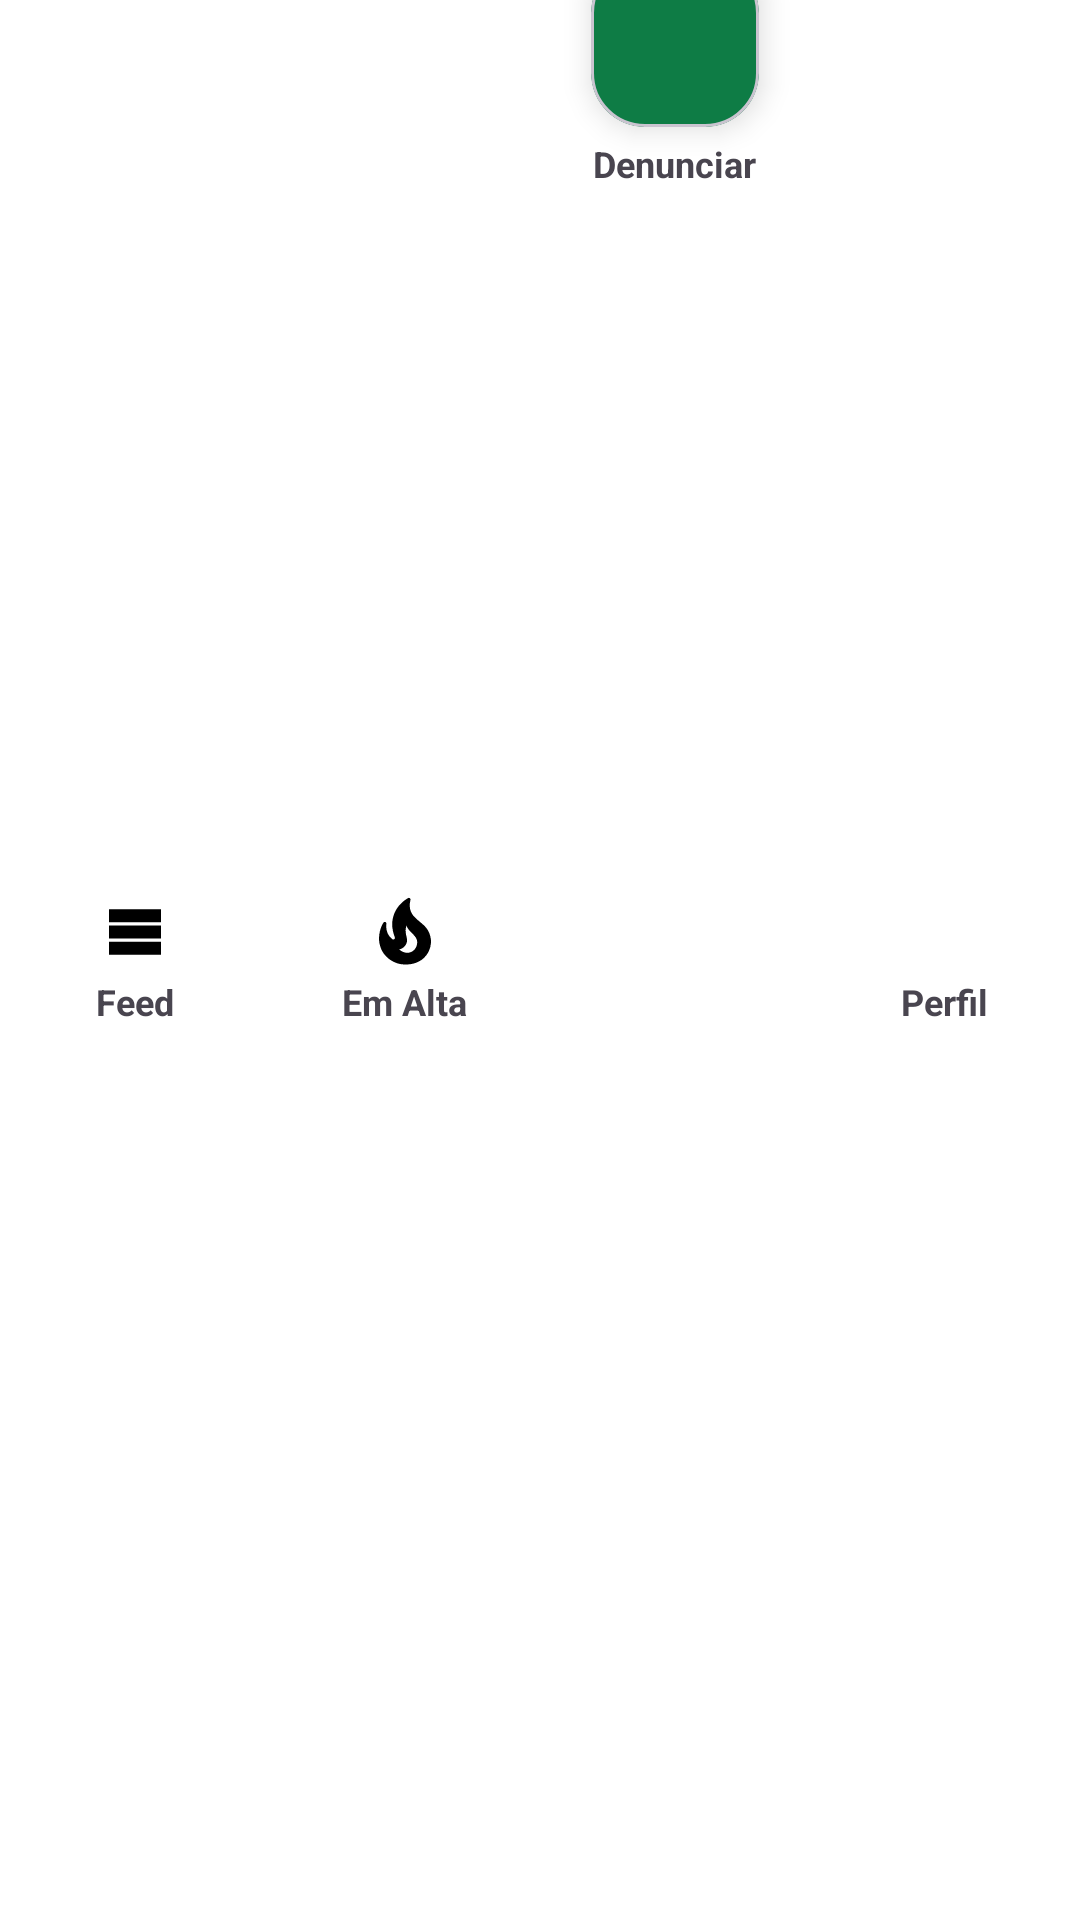

Where to tap for icons on this 1080 × 1920 app screen, as (x=x, y=y):
fire: (x=405, y=931)
